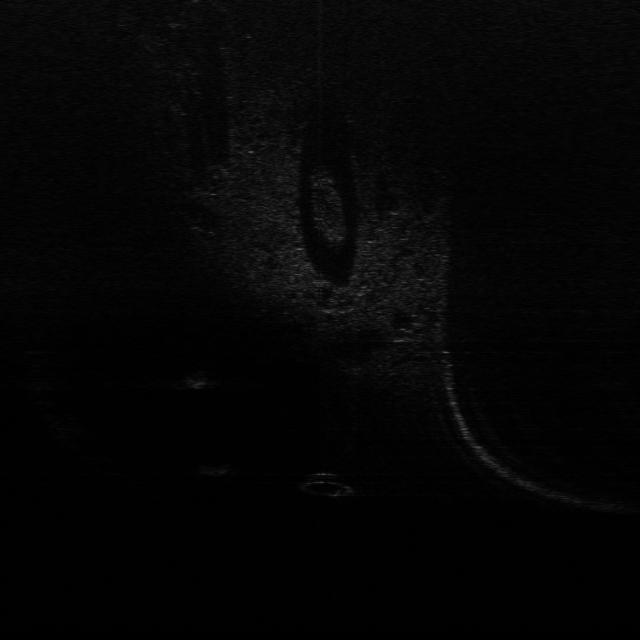cube: (197, 460, 232, 478)
square cage: (176, 368, 212, 389)
tyre: (296, 472, 356, 498)
